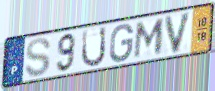9: (55, 31, 78, 73)
G: (108, 22, 136, 64)
M: (132, 17, 167, 61)
S: (24, 37, 53, 79)
U: (80, 25, 108, 70)
V: (164, 10, 194, 55)
